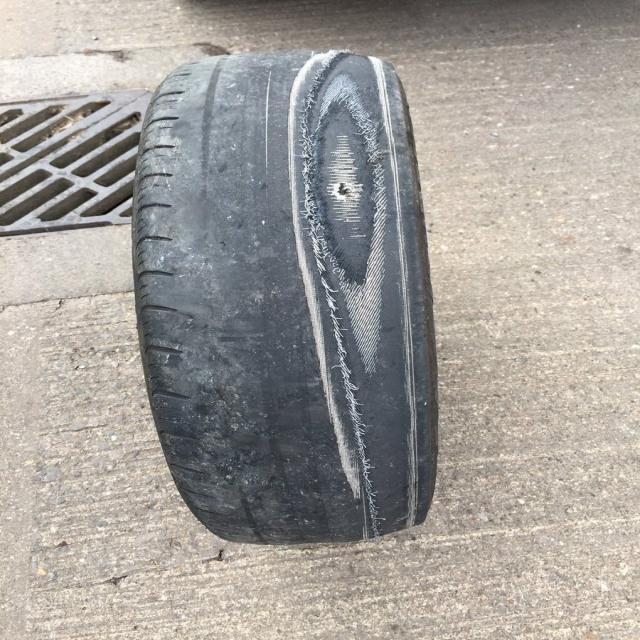Flat spots: (143, 58, 364, 553)
